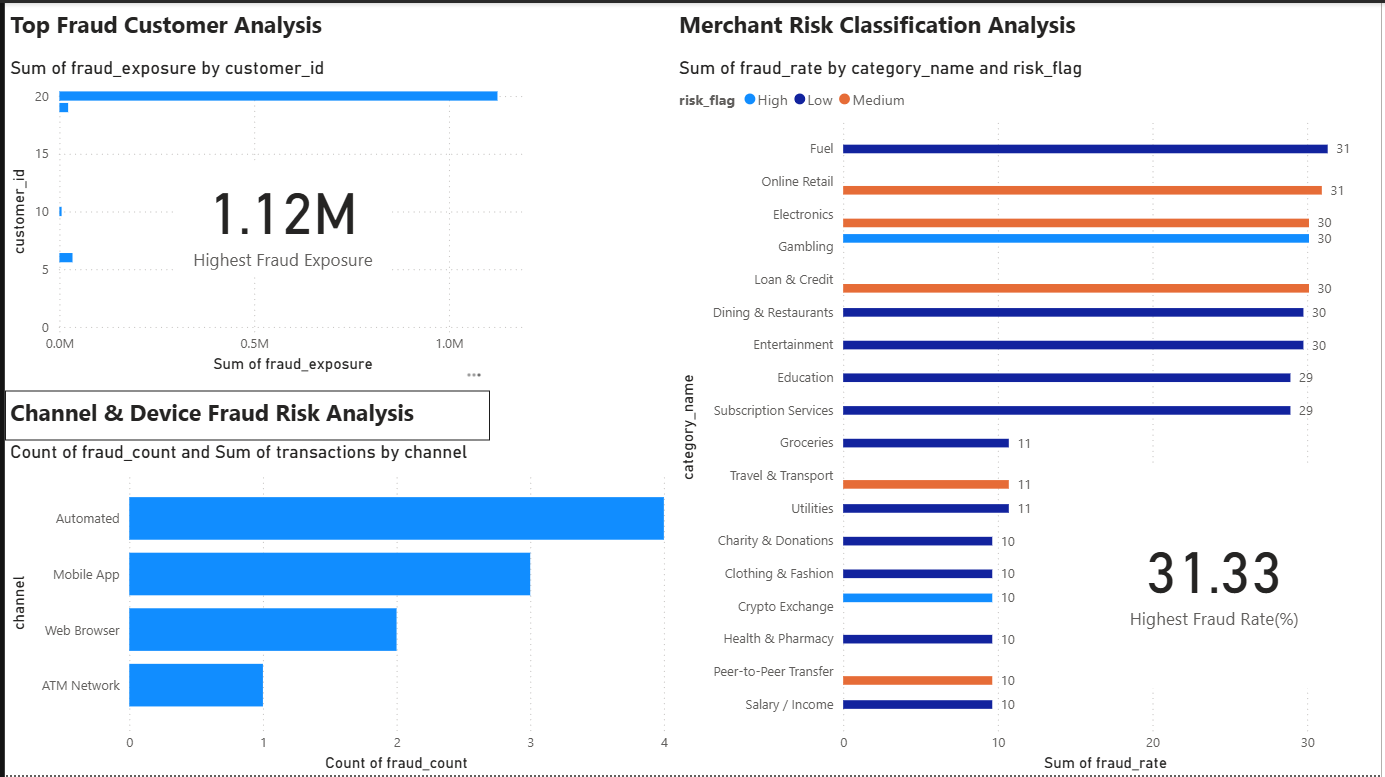

The dashboard page shown, as its layout file describes it:
{"tool":"powerbi","page":{"name":"Page 2","canvas":[1280,720],"ordinal":1},"visuals":[{"type":"clusteredBarChart","fields":{"Category":["Q9.customer_id"],"Y":["Sum(Q9.fraud_exposure)"]},"box":[0,50,504.7,298.8],"z":0},{"type":"textbox","box":[0,0,316.3,50],"z":1000},{"type":"card","fields":{"Values":["Max(Q9.fraud_exposure)"]},"box":[158.1,146.5,201.2,107],"z":2000},{"type":"textbox","box":[622.1,0,504.7,54.7],"z":3000},{"type":"clusteredBarChart","fields":{"Category":["Q6.category_name"],"Series":["Q6.risk_flag"],"Y":["Sum(Q6.fraud_rate)"]},"box":[622.1,50,658.1,669.8],"z":4000},{"type":"card","fields":{"Values":["Max(Q6.fraud_rate)"]},"box":[969.8,430.2,310.5,207],"z":5000},{"type":"clusteredBarChart","fields":{"Category":["Q8.channel","Q8.device_type"],"Y":["Count(Q8.fraud_count)"]},"box":[0,407,622.1,312.8],"z":6000},{"type":"textbox","box":[0,360.5,451.2,46.5],"z":7000}]}

Visuals, with their boxes in screenshot pixels (x1, y1, x2, y2), scaled from the page's 1280x720 canvas onto the 1385x777 screenshot:
clusteredBarChart - Q9.customer_id x Sum(Q9.fraud_exposure): <bbox>0, 54, 546, 376</bbox>
textbox: <bbox>0, 0, 342, 54</bbox>
card - Max(Q9.fraud_exposure): <bbox>171, 158, 389, 274</bbox>
textbox: <bbox>673, 0, 1219, 59</bbox>
clusteredBarChart - Q6.category_name x Q6.risk_flag: <bbox>673, 54, 1384, 776</bbox>
card - Max(Q6.fraud_rate): <bbox>1049, 464, 1384, 688</bbox>
clusteredBarChart - Q8.channel x Q8.device_type: <bbox>0, 439, 673, 776</bbox>
textbox: <bbox>0, 389, 488, 439</bbox>
